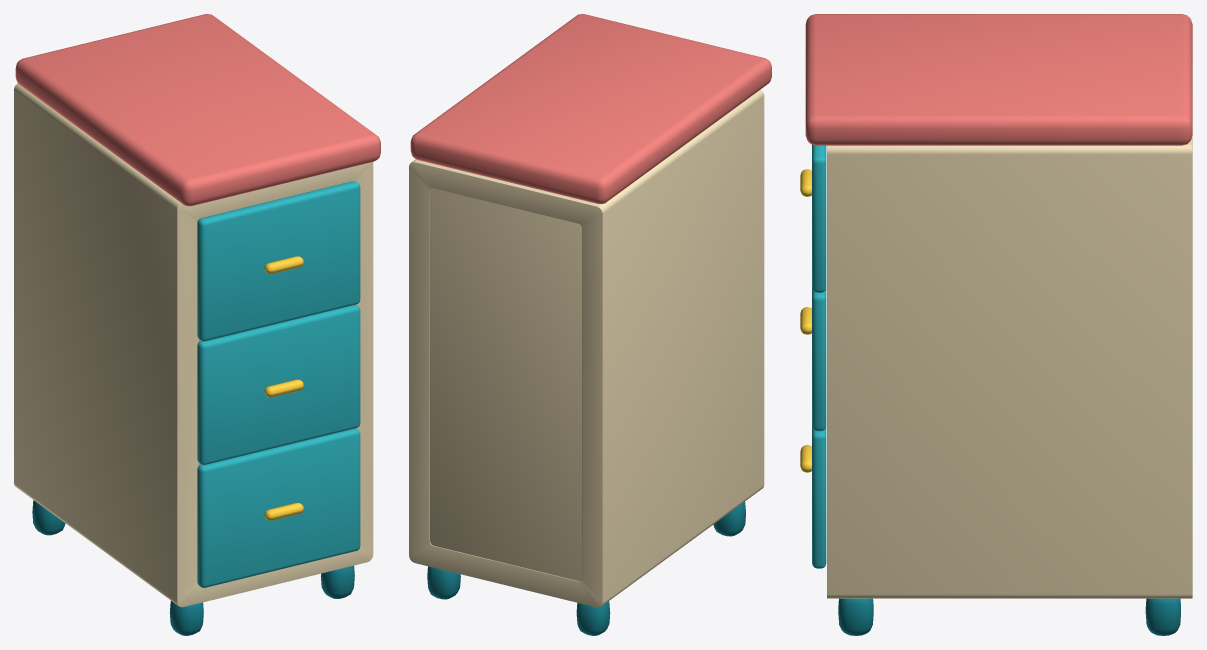
The model's file is gaveteiro_cozinha_3gavetas_moderna_coral.glb.
The picture shows the model from 3 angles, left to right: view 1: azimuth 30°, elevation 25°; view 2: azimuth 150°, elevation 25°; view 3: azimuth 270°, elevation 25°; orthographic projection. The views are drawn at different scales.
Visible parts, largest first — view 1: gaveteiro_cozinha_3gavetas_moderna_coral, gaveta_1, gaveta_2, gaveta_3; view 2: gaveteiro_cozinha_3gavetas_moderna_coral; view 3: gaveteiro_cozinha_3gavetas_moderna_coral, gaveta_1, gaveta_2, gaveta_3.
Part boxes in pixels (x1,y1,x2,y2): gaveteiro_cozinha_3gavetas_moderna_coral: [14, 14, 380, 635]; gaveta_1: [197, 181, 360, 341]; gaveta_2: [197, 304, 360, 464]; gaveta_3: [197, 428, 360, 587]; gaveteiro_cozinha_3gavetas_moderna_coral: [409, 14, 771, 635]; gaveteiro_cozinha_3gavetas_moderna_coral: [805, 14, 1192, 635]; gaveta_1: [800, 144, 826, 292]; gaveta_2: [800, 288, 826, 431]; gaveta_3: [800, 426, 826, 568].
Bounding box in the file's own units: 0.398 × 0.9 × 0.607.
Materials: 1 (1 with a texture image).
